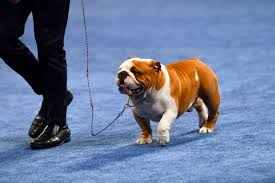Bulldog: (103, 46, 235, 151)
